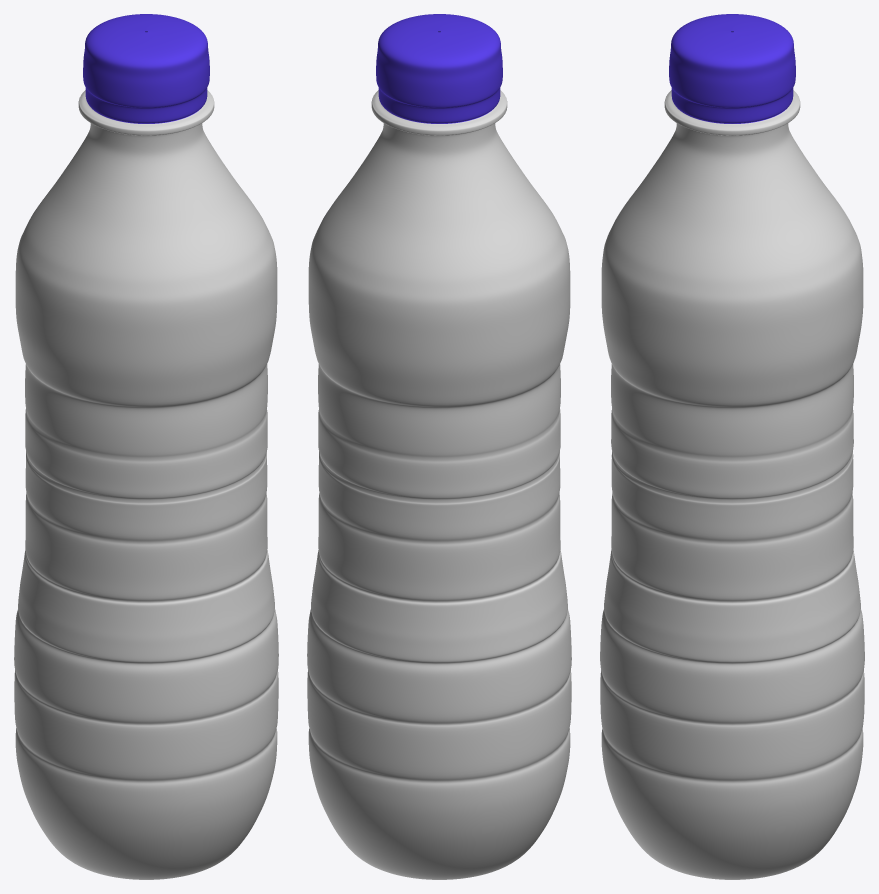
File: BotellaAgua.fbx
The picture shows the model from 3 angles, left to right: view 1: azimuth 30°, elevation 25°; view 2: azimuth 150°, elevation 25°; view 3: azimuth 270°, elevation 25°; orthographic projection.
Parts seen in each view (by area): view 1: Agua; view 2: Agua; view 3: Agua.
Part boxes in pixels (x1,y1,x2,y2): Agua: [14, 14, 278, 879]; Agua: [307, 14, 571, 879]; Agua: [600, 14, 864, 879].
Bounding box in the file's own units: 33.25 × 113 × 33.25.
